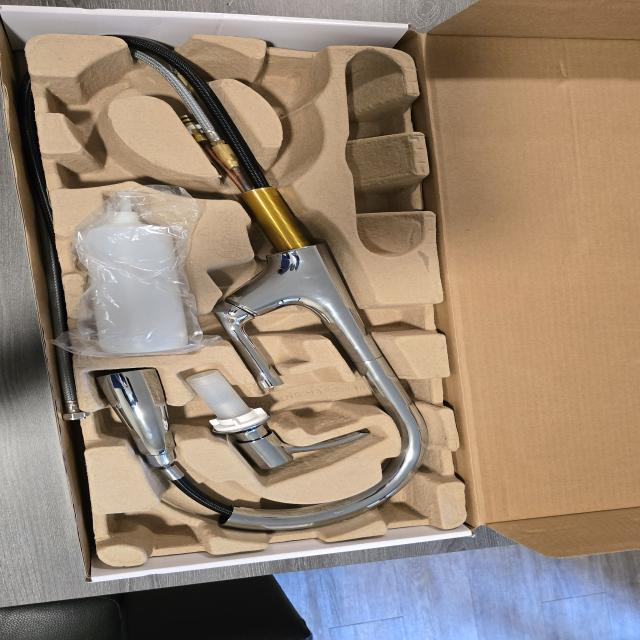1: (99, 35, 428, 531)
2: (184, 370, 372, 471)
3: (70, 187, 200, 353)
4m: (346, 49, 424, 255)
5m: (254, 60, 326, 108)
6m: (46, 69, 136, 132)
7m: (58, 139, 162, 188)
